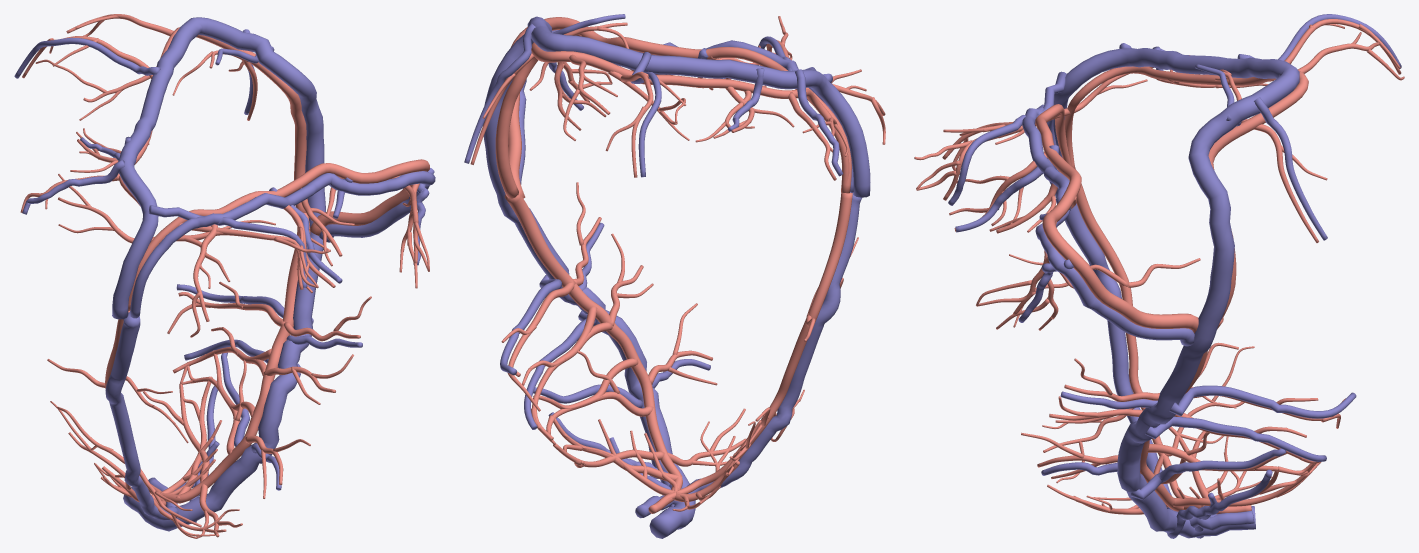
File: vessels_71.glb
3 views of the same model, side by side, from view 1: azimuth 30°, elevation 25°; view 2: azimuth 150°, elevation 25°; view 3: azimuth 270°, elevation 25° (orthographic). The views are drawn at different scales.
Parts seen in each view (by area): view 1: Renderer Node; view 2: Renderer Node; view 3: Renderer Node.
Boxes of the visible parts, x1,y1,x2,y2 form: Renderer Node: (14,14,435,538); Renderer Node: (464,14,885,538); Renderer Node: (914,14,1404,538).
Size of the model in its own units: 98.5 by 122 by 106.
